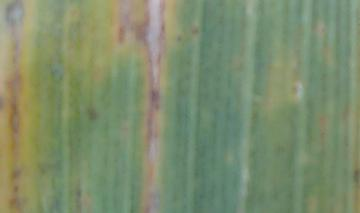tarspot: (7, 196, 30, 213), (46, 193, 65, 213), (74, 185, 84, 213), (116, 23, 126, 45), (8, 166, 23, 180), (86, 105, 97, 121), (352, 165, 360, 187), (291, 82, 300, 96), (11, 183, 22, 193), (190, 25, 199, 36), (175, 32, 183, 43)
